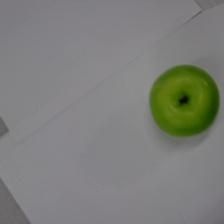green: (150, 65, 220, 137)
